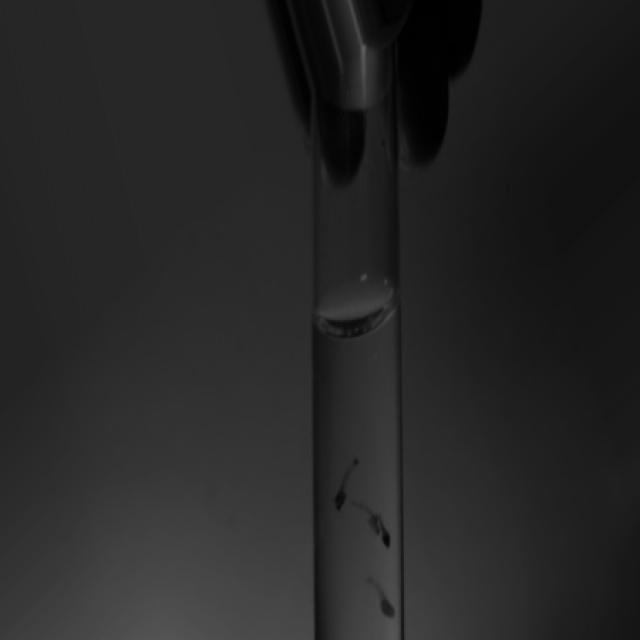larvas: (336, 454, 356, 508), (370, 576, 394, 618), (354, 503, 376, 529), (377, 520, 391, 544)
